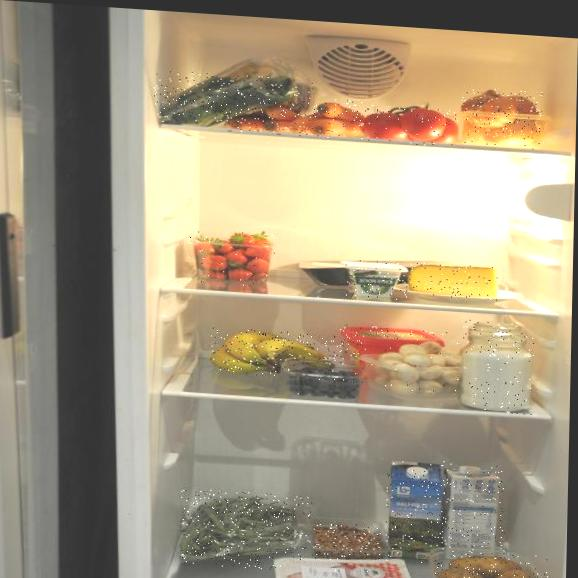banana: (210, 327, 338, 381)
blueberries: (289, 363, 365, 400)
butter: (339, 325, 448, 382)
carrot: (227, 92, 366, 141)
cheese: (407, 261, 502, 301)
goat_cheese: (343, 259, 408, 301)
green_beans: (180, 488, 312, 572)
ham: (284, 559, 410, 578)
milk: (440, 461, 506, 569), (386, 458, 448, 564)
mushrooms: (362, 337, 480, 399)
onion: (461, 87, 543, 150)
potato: (432, 549, 557, 578)
shrimp: (312, 522, 382, 563)
spinach: (153, 70, 321, 133)
strawberries: (187, 228, 275, 287)
sugar: (458, 319, 537, 415)
tomato: (361, 100, 463, 148)
